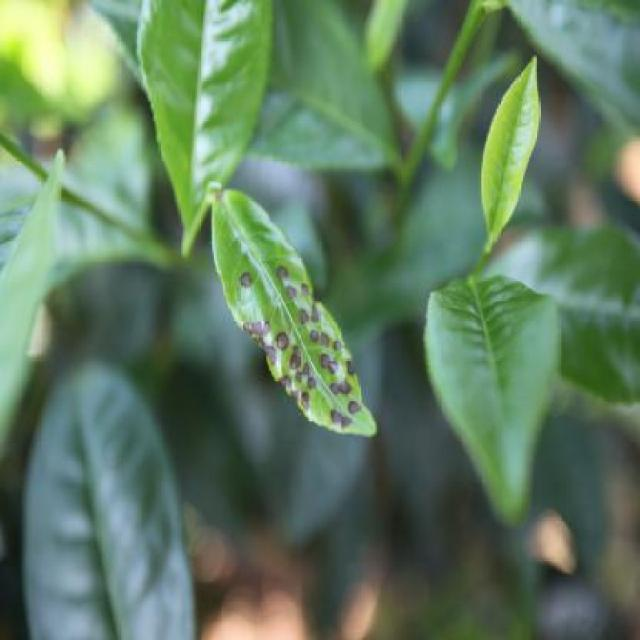Tea Mosquito bug infested leaf: (218, 191, 377, 443)
